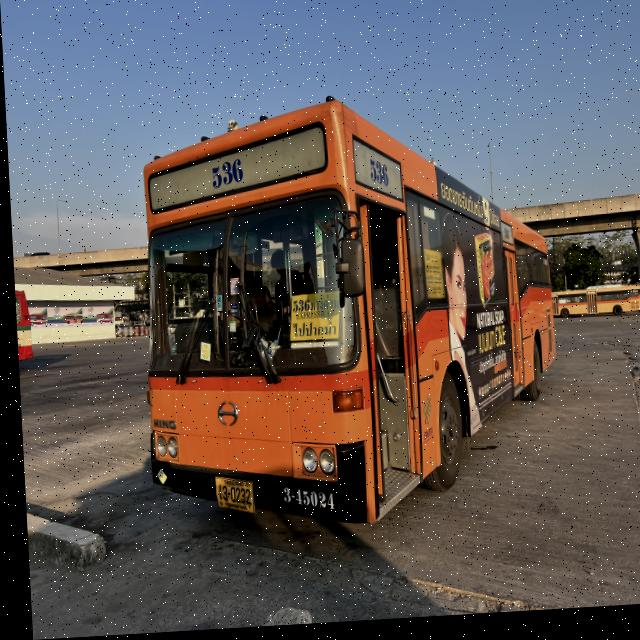BMTA-bus: (131, 92, 560, 540)
Bus-Line-Number: (205, 157, 244, 198), (364, 158, 389, 196)
Destination-Sign-Normal-Expressway: (283, 291, 341, 350)
